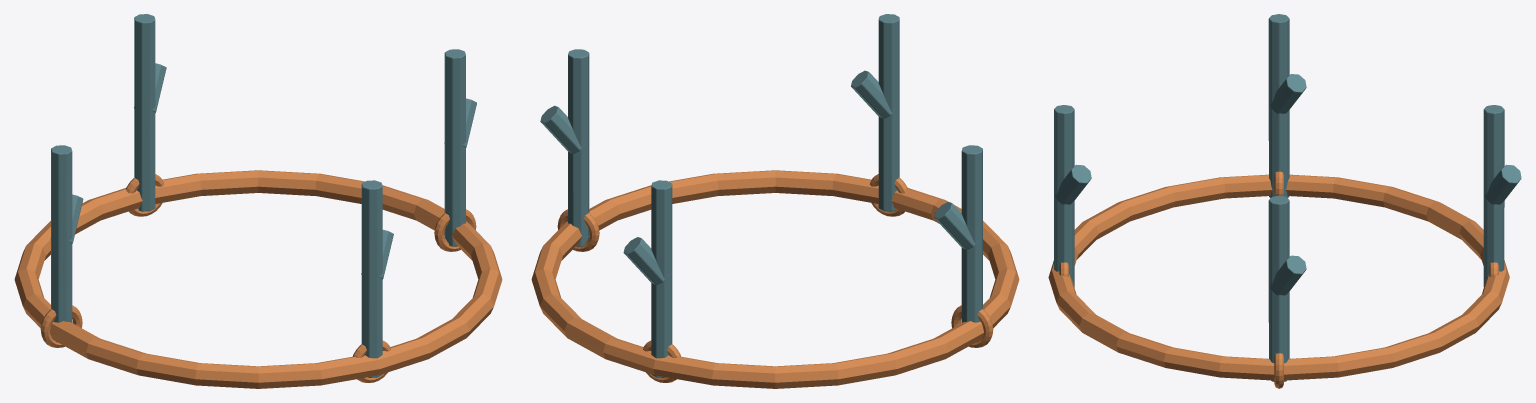
File: micro_reactor_manifold_d1.glb
3 renders of one model, left to right at view 1: azimuth 30°, elevation 25°; view 2: azimuth 150°, elevation 25°; view 3: azimuth 270°, elevation 25°, orthographic. The views are drawn at different scales.
Visible parts, largest first — view 1: Manifold ring.005, Coolant riser.021, Coolant riser.020, Coolant riser.023, Coolant riser.022, Pipe flange.022, Pipe flange.020, Pipe flange.021; view 2: Manifold ring.005, Coolant riser.023, Coolant riser.020, Coolant riser.021, Coolant riser.022, Scored coolant riser.007, Scored coolant riser.006, Scored coolant riser.004, Scored coolant riser.005, Pipe flange.022, Pipe flange.020, Pipe flange.023; view 3: Manifold ring.005, Coolant riser.022, Coolant riser.021, Coolant riser.020, Coolant riser.023, Scored coolant riser.004, Scored coolant riser.007, Scored coolant riser.006, Scored coolant riser.005.
Part boxes in pixels (left/top/right/bottom): Manifold ring.005: left=14, top=170, right=502, bottom=388; Coolant riser.021: left=134, top=14, right=155, bottom=211; Coolant riser.020: left=444, top=49, right=465, bottom=246; Coolant riser.023: left=361, top=180, right=382, bottom=377; Coolant riser.022: left=51, top=145, right=72, bottom=341; Pipe flange.022: left=40, top=305, right=82, bottom=347; Pipe flange.020: left=434, top=209, right=476, bottom=251; Pipe flange.021: left=126, top=174, right=164, bottom=216; Manifold ring.005: left=531, top=170, right=1019, bottom=388; Coolant riser.023: left=878, top=14, right=899, bottom=211; Coolant riser.020: left=568, top=49, right=589, bottom=246; Coolant riser.021: left=651, top=180, right=672, bottom=377; Coolant riser.022: left=961, top=145, right=982, bottom=341; Scored coolant riser.007: left=851, top=70, right=896, bottom=118; Scored coolant riser.006: left=934, top=202, right=979, bottom=249; Scored coolant riser.004: left=540, top=105, right=585, bottom=153; Scored coolant riser.005: left=623, top=237, right=668, bottom=284; Pipe flange.022: left=951, top=305, right=993, bottom=347; Pipe flange.020: left=557, top=209, right=599, bottom=251; Pipe flange.023: left=869, top=174, right=907, bottom=216; Manifold ring.005: left=1048, top=174, right=1509, bottom=380; Coolant riser.022: left=1268, top=14, right=1289, bottom=197; Coolant riser.021: left=1483, top=105, right=1504, bottom=286; Coolant riser.020: left=1268, top=195, right=1289, bottom=381; Coolant riser.023: left=1054, top=105, right=1074, bottom=287; Scored coolant riser.004: left=1269, top=255, right=1306, bottom=295; Scored coolant riser.007: left=1054, top=164, right=1091, bottom=204; Scored coolant riser.006: left=1269, top=74, right=1306, bottom=113; Scored coolant riser.005: left=1484, top=164, right=1521, bottom=204.
Size of the model in its own units: 5.51 by 2.36 by 5.39.
